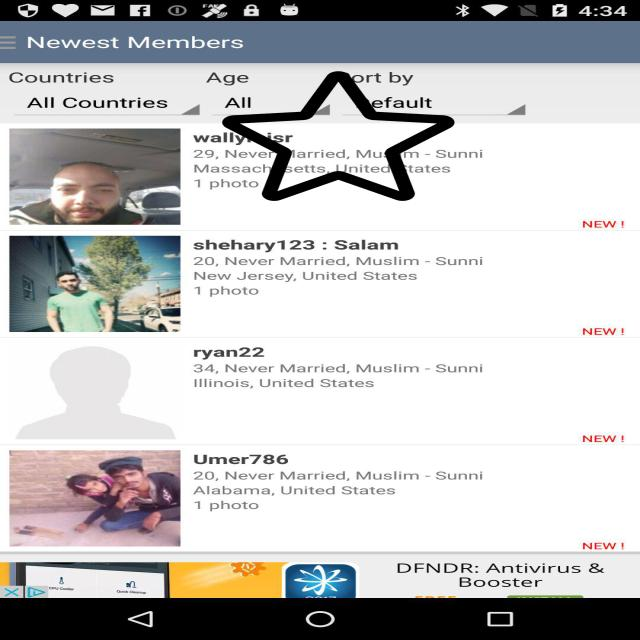forced continuity: (222, 68, 455, 204)
